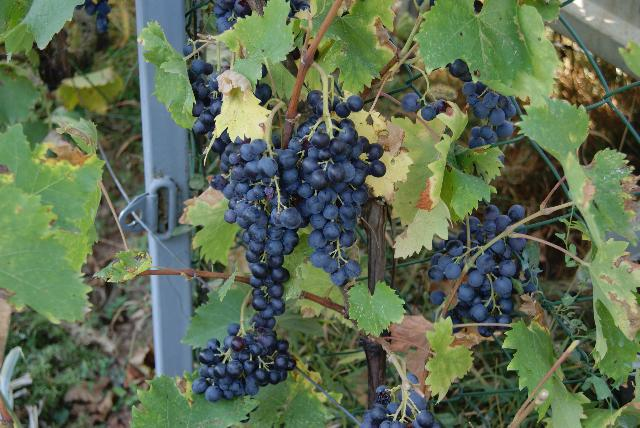grapes: (211, 135, 320, 320), (278, 120, 386, 286), (192, 314, 296, 402), (428, 205, 524, 281), (455, 238, 526, 322), (361, 385, 441, 428), (188, 59, 222, 135)
